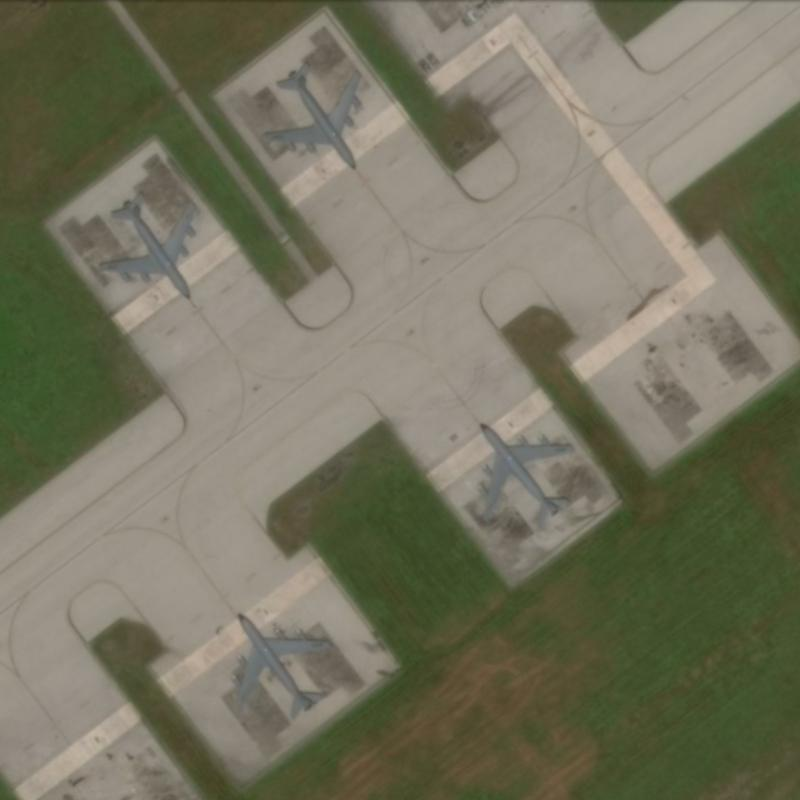A14: (257, 57, 370, 174), (93, 187, 206, 304), (227, 606, 336, 723), (476, 414, 578, 524)
